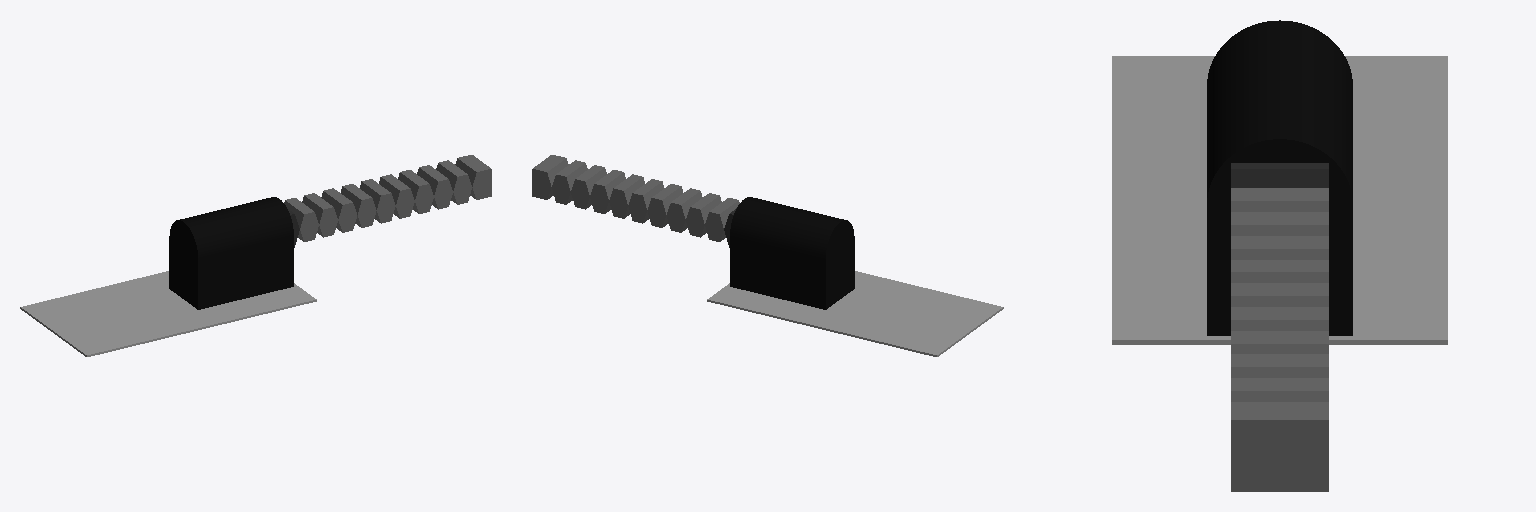
robot.urdf — Robot:
<?xml version="1.0"?>
<robot name="Robot">
  <link name="plate">
    <inertial>
      <origin xyz="-0.29 0 -0.0025" rpy="0 0 0" />
      <mass value="10" />
      <inertia ixx="0.0750208333" ixy="0" ixz="0" iyy="0.300020833" iyz="0" izz="0.375" />
    </inertial>
    <visual>
      <origin xyz="0 0 0" rpy="0 0 0" />
      <geometry>
        <mesh filename="../assets/plate/plate_mesh.obj" />
      </geometry>
      <material name="plate_mat">
        <color rgba="0.62745098 0.62745098 0.62745098 1" />
      </material>
    </visual>
    <collision>
      <origin xyz="0 0 0" rpy="0 0 0" />
      <geometry>
        <mesh filename="../assets/plate/plate_mesh.obj" />
      </geometry>
    </collision>
  </link>
  <link name="housing">
    <inertial>
      <origin xyz="-0.125 0 0.090106019" rpy="0 0 0" />
      <mass value="3" />
      <inertia ixx="0.0122324069" ixy="0" ixz="0" iyy="0.0239337826" iyz="0" izz="0.0195486244" />
    </inertial>
    <visual>
      <origin xyz="0 0 0" rpy="0 0 0" />
      <geometry>
        <mesh filename="../assets/housing/housing_mesh.obj" />
      </geometry>
      <material name="housing_mat">
        <color rgba="0.0823529412 0.0823529412 0.0823529412 1" />
      </material>
    </visual>
    <collision>
      <origin xyz="0 0 0" rpy="0 0 0" />
      <geometry>
        <mesh filename="../assets/housing/housing_mesh.obj" />
      </geometry>
    </collision>
  </link>
  <link name="wedge">
    <inertial>
      <origin xyz="0.0109546951 0 0" rpy="0 0 0" />
      <mass value="0.1" />
      <inertia ixx="0.000113860054" ixy="0" ixz="0" iyy="5.38263296e-05" iyz="0" izz="6.90329423e-05" />
    </inertial>
    <visual>
      <origin xyz="0 0 0" rpy="0 0 0" />
      <geometry>
        <mesh filename="../assets/wedge/wedge_mesh.obj" />
      </geometry>
      <material name="wedge_mat">
        <color rgba="0.219607843 0.219607843 0.219607843 1" />
      </material>
    </visual>
    <collision>
      <origin xyz="0 0 0" rpy="0 0 0" />
      <geometry>
        <mesh filename="../assets/wedge/wedge_mesh.obj" />
      </geometry>
    </collision>
  </link>
  <link name="node0">
    <inertial>
      <origin xyz="0.025 0 0" rpy="0 0 0" />
      <mass value="0.1" />
      <inertia ixx="9.93559147e-05" ixy="0" ixz="0" iyy="4.83345352e-05" iyz="0" izz="7.80452872e-05" />
    </inertial>
    <visual>
      <origin xyz="0 0 0" rpy="0 0 0" />
      <geometry>
        <mesh filename="../assets/node/node_mesh.obj" />
      </geometry>
      <material name="node0_mat">
        <color rgba="0.439215686 0.439215686 0.439215686 1" />
      </material>
    </visual>
    <collision>
      <origin xyz="0 0 0" rpy="0 0 0" />
      <geometry>
        <mesh filename="../assets/node/node_mesh.obj" />
      </geometry>
    </collision>
  </link>
  <link name="node1">
    <inertial>
      <origin xyz="0.025 0 0" rpy="0 0 0" />
      <mass value="0.1" />
      <inertia ixx="9.93559147e-05" ixy="0" ixz="0" iyy="4.83345352e-05" iyz="0" izz="7.80452872e-05" />
    </inertial>
    <visual>
      <origin xyz="0 0 0" rpy="0 0 0" />
      <geometry>
        <mesh filename="../assets/node/node_mesh.obj" />
      </geometry>
      <material name="node1_mat">
        <color rgba="0.439215686 0.439215686 0.439215686 1" />
      </material>
    </visual>
    <collision>
      <origin xyz="0 0 0" rpy="0 0 0" />
      <geometry>
        <mesh filename="../assets/node/node_mesh.obj" />
      </geometry>
    </collision>
  </link>
  <link name="node2">
    <inertial>
      <origin xyz="0.025 0 0" rpy="0 0 0" />
      <mass value="0.1" />
      <inertia ixx="9.93559147e-05" ixy="0" ixz="0" iyy="4.83345352e-05" iyz="0" izz="7.80452872e-05" />
    </inertial>
    <visual>
      <origin xyz="0 0 0" rpy="0 0 0" />
      <geometry>
        <mesh filename="../assets/node/node_mesh.obj" />
      </geometry>
      <material name="node2_mat">
        <color rgba="0.439215686 0.439215686 0.439215686 1" />
      </material>
    </visual>
    <collision>
      <origin xyz="0 0 0" rpy="0 0 0" />
      <geometry>
        <mesh filename="../assets/node/node_mesh.obj" />
      </geometry>
    </collision>
  </link>
  <link name="node3">
    <inertial>
      <origin xyz="0.025 0 0" rpy="0 0 0" />
      <mass value="0.1" />
      <inertia ixx="9.93559147e-05" ixy="0" ixz="0" iyy="4.83345352e-05" iyz="0" izz="7.80452872e-05" />
    </inertial>
    <visual>
      <origin xyz="0 0 0" rpy="0 0 0" />
      <geometry>
        <mesh filename="../assets/node/node_mesh.obj" />
      </geometry>
      <material name="node3_mat">
        <color rgba="0.439215686 0.439215686 0.439215686 1" />
      </material>
    </visual>
    <collision>
      <origin xyz="0 0 0" rpy="0 0 0" />
      <geometry>
        <mesh filename="../assets/node/node_mesh.obj" />
      </geometry>
    </collision>
  </link>
  <link name="node4">
    <inertial>
      <origin xyz="0.025 0 0" rpy="0 0 0" />
      <mass value="0.1" />
      <inertia ixx="9.93559147e-05" ixy="0" ixz="0" iyy="4.83345352e-05" iyz="0" izz="7.80452872e-05" />
    </inertial>
    <visual>
      <origin xyz="0 0 0" rpy="0 0 0" />
      <geometry>
        <mesh filename="../assets/node/node_mesh.obj" />
      </geometry>
      <material name="node4_mat">
        <color rgba="0.439215686 0.439215686 0.439215686 1" />
      </material>
    </visual>
    <collision>
      <origin xyz="0 0 0" rpy="0 0 0" />
      <geometry>
        <mesh filename="../assets/node/node_mesh.obj" />
      </geometry>
    </collision>
  </link>
  <link name="node5">
    <inertial>
      <origin xyz="0.025 0 0" rpy="0 0 0" />
      <mass value="0.1" />
      <inertia ixx="9.93559147e-05" ixy="0" ixz="0" iyy="4.83345352e-05" iyz="0" izz="7.80452872e-05" />
    </inertial>
    <visual>
      <origin xyz="0 0 0" rpy="0 0 0" />
      <geometry>
        <mesh filename="../assets/node/node_mesh.obj" />
      </geometry>
      <material name="node5_mat">
        <color rgba="0.439215686 0.439215686 0.439215686 1" />
      </material>
    </visual>
    <collision>
      <origin xyz="0 0 0" rpy="0 0 0" />
      <geometry>
        <mesh filename="../assets/node/node_mesh.obj" />
      </geometry>
    </collision>
  </link>
  <link name="node6">
    <inertial>
      <origin xyz="0.025 0 0" rpy="0 0 0" />
      <mass value="0.1" />
      <inertia ixx="9.93559147e-05" ixy="0" ixz="0" iyy="4.83345352e-05" iyz="0" izz="7.80452872e-05" />
    </inertial>
    <visual>
      <origin xyz="0 0 0" rpy="0 0 0" />
      <geometry>
        <mesh filename="../assets/node/node_mesh.obj" />
      </geometry>
      <material name="node6_mat">
        <color rgba="0.439215686 0.439215686 0.439215686 1" />
      </material>
    </visual>
    <collision>
      <origin xyz="0 0 0" rpy="0 0 0" />
      <geometry>
        <mesh filename="../assets/node/node_mesh.obj" />
      </geometry>
    </collision>
  </link>
  <link name="node7">
    <inertial>
      <origin xyz="0.025 0 0" rpy="0 0 0" />
      <mass value="0.1" />
      <inertia ixx="9.93559147e-05" ixy="0" ixz="0" iyy="4.83345352e-05" iyz="0" izz="7.80452872e-05" />
    </inertial>
    <visual>
      <origin xyz="0 0 0" rpy="0 0 0" />
      <geometry>
        <mesh filename="../assets/node/node_mesh.obj" />
      </geometry>
      <material name="node7_mat">
        <color rgba="0.439215686 0.439215686 0.439215686 1" />
      </material>
    </visual>
    <collision>
      <origin xyz="0 0 0" rpy="0 0 0" />
      <geometry>
        <mesh filename="../assets/node/node_mesh.obj" />
      </geometry>
    </collision>
  </link>
  <link name="node8">
    <inertial>
      <origin xyz="0.025 0 0" rpy="0 0 0" />
      <mass value="0.1" />
      <inertia ixx="9.93559147e-05" ixy="0" ixz="0" iyy="4.83345352e-05" iyz="0" izz="7.80452872e-05" />
    </inertial>
    <visual>
      <origin xyz="0 0 0" rpy="0 0 0" />
      <geometry>
        <mesh filename="../assets/node/node_mesh.obj" />
      </geometry>
      <material name="node8_mat">
        <color rgba="0.439215686 0.439215686 0.439215686 1" />
      </material>
    </visual>
    <collision>
      <origin xyz="0 0 0" rpy="0 0 0" />
      <geometry>
        <mesh filename="../assets/node/node_mesh.obj" />
      </geometry>
    </collision>
  </link>
  <link name="node9">
    <inertial>
      <origin xyz="0.0277214464 0 0" rpy="0 0 0" />
      <mass value="0.1" />
      <inertia ixx="0.000102746922" ixy="0" ixz="-0" iyy="5.51153233e-05" iyz="0" izz="8.14350676e-05" />
    </inertial>
    <visual>
      <origin xyz="0 0 0" rpy="0 0 0" />
      <geometry>
        <mesh filename="../assets/node_end/node_end_mesh.obj" />
      </geometry>
      <material name="node9_mat">
        <color rgba="0.439215686 0.439215686 0.439215686 1" />
      </material>
    </visual>
    <collision>
      <origin xyz="0 0 0" rpy="0 0 0" />
      <geometry>
        <mesh filename="../assets/node_end/node_end_mesh.obj" />
      </geometry>
    </collision>
  </link>
  <joint name="j_plate_housing" type="prismatic">
    <parent link="plate" />
    <child link="housing" />
    <origin xyz="0 0 0" rpy="0 0 0" />
    <axis xyz="1 0 0" />
    <limit lower="0" upper="0" effort="200" velocity="3" />
    <dynamics damping="60" friction="20" />
  </joint>
  <joint name="j_housing_wedge" type="revolute">
    <parent link="housing" />
    <child link="wedge" />
    <origin xyz="0 0 0.128" rpy="0 0 0" />
    <axis xyz="1 0 0" />
    <limit lower="0" upper="0" effort="200" velocity="3" />
    <dynamics damping="0.12" friction="0.06" />
  </joint>
  <joint name="j_wedge_node0" type="revolute">
    <parent link="wedge" />
    <child link="node0" />
    <origin xyz="0.028 0 0" rpy="0 0 0" />
    <axis xyz="0 1 0" />
    <limit lower="0" upper="0" effort="200" velocity="3" />
    <dynamics damping="0.12" friction="0.06" />
  </joint>
  <joint name="j_node0_node1" type="revolute">
    <parent link="node0" />
    <child link="node1" />
    <origin xyz="0.05 0 0" rpy="0 0 0" />
    <axis xyz="0 1 0" />
    <limit lower="0" upper="0" effort="200" velocity="3" />
    <dynamics damping="0.12" friction="0.06" />
  </joint>
  <joint name="j_node1_node2" type="revolute">
    <parent link="node1" />
    <child link="node2" />
    <origin xyz="0.05 0 0" rpy="0 0 0" />
    <axis xyz="0 1 0" />
    <limit lower="0" upper="0" effort="200" velocity="3" />
    <dynamics damping="0.12" friction="0.06" />
  </joint>
  <joint name="j_node2_node3" type="revolute">
    <parent link="node2" />
    <child link="node3" />
    <origin xyz="0.05 0 0" rpy="0 0 0" />
    <axis xyz="0 1 0" />
    <limit lower="0" upper="0" effort="200" velocity="3" />
    <dynamics damping="0.12" friction="0.06" />
  </joint>
  <joint name="j_node3_node4" type="revolute">
    <parent link="node3" />
    <child link="node4" />
    <origin xyz="0.05 0 0" rpy="0 0 0" />
    <axis xyz="0 1 0" />
    <limit lower="0" upper="0" effort="200" velocity="3" />
    <dynamics damping="0.12" friction="0.06" />
  </joint>
  <joint name="j_node4_node5" type="revolute">
    <parent link="node4" />
    <child link="node5" />
    <origin xyz="0.05 0 0" rpy="0 0 0" />
    <axis xyz="0 1 0" />
    <limit lower="0" upper="0" effort="200" velocity="3" />
    <dynamics damping="0.12" friction="0.06" />
  </joint>
  <joint name="j_node5_node6" type="revolute">
    <parent link="node5" />
    <child link="node6" />
    <origin xyz="0.05 0 0" rpy="0 0 0" />
    <axis xyz="0 1 0" />
    <limit lower="0" upper="0" effort="200" velocity="3" />
    <dynamics damping="0.12" friction="0.06" />
  </joint>
  <joint name="j_node6_node7" type="revolute">
    <parent link="node6" />
    <child link="node7" />
    <origin xyz="0.05 0 0" rpy="0 0 0" />
    <axis xyz="0 1 0" />
    <limit lower="0" upper="0" effort="200" velocity="3" />
    <dynamics damping="0.12" friction="0.06" />
  </joint>
  <joint name="j_node7_node8" type="revolute">
    <parent link="node7" />
    <child link="node8" />
    <origin xyz="0.05 0 0" rpy="0 0 0" />
    <axis xyz="0 1 0" />
    <limit lower="0" upper="0" effort="200" velocity="3" />
    <dynamics damping="0.12" friction="0.06" />
  </joint>
  <joint name="j_node8_node9" type="revolute">
    <parent link="node8" />
    <child link="node9" />
    <origin xyz="0.05 0 0" rpy="0 0 0" />
    <axis xyz="0 1 0" />
    <limit lower="0" upper="0" effort="200" velocity="3" />
    <dynamics damping="0.12" friction="0.06" />
  </joint>
  <mujoco>
    <contact>
      <exclude body1="housing" body2="plate" />
      <exclude body1="housing" body2="wedge" />
      <exclude body1="node0" body2="node1" />
      <exclude body1="node0" body2="wedge" />
      <exclude body1="node1" body2="node2" />
      <exclude body1="node2" body2="node3" />
      <exclude body1="node3" body2="node4" />
      <exclude body1="node4" body2="node5" />
      <exclude body1="node5" body2="node6" />
      <exclude body1="node6" body2="node7" />
      <exclude body1="node7" body2="node8" />
      <exclude body1="node8" body2="node9" />
    </contact>
  </mujoco>
</robot>

--- Facts derived from the render (not from the file) ---
3 views of the same robot in one strip: view 1: azimuth 30°, elevation 25°; view 2: azimuth 150°, elevation 25°; view 3: azimuth 270°, elevation 25° (orthographic).
Model Robot with 13 links and 12 joints (11 revolute, 1 prismatic), rooted at plate, posed all joints at 0.
Links seen in each view (by area): view 1: housing, plate, node9, node2, node4, node7, node8, node3, node5, node6, node1, node0; view 2: housing, plate, node9, node2, node4, node7, node8, node3, node5, node6, node1, node0; view 3: plate, housing, node9, wedge, node0, node1, node2, node4, node5, node7, node8, node3 (+1 smaller).
Link boxes in pixels (x1,y1,x2,y2): housing: [169, 197, 293, 309]; plate: [20, 271, 316, 356]; node9: [455, 155, 491, 199]; node2: [321, 188, 356, 232]; node4: [360, 179, 395, 223]; node7: [417, 165, 452, 209]; node8: [436, 160, 471, 204]; node3: [341, 184, 376, 227]; node5: [379, 174, 414, 218]; node6: [398, 170, 433, 213]; node1: [302, 193, 337, 237]; node0: [284, 198, 318, 241]; housing: [730, 197, 854, 309]; plate: [707, 271, 1003, 356]; node9: [532, 155, 568, 199]; node2: [667, 188, 702, 232]; node4: [628, 179, 663, 223]; node7: [571, 165, 606, 209]; node8: [552, 160, 587, 204]; node3: [647, 184, 682, 227]; node5: [609, 174, 644, 218]; node6: [590, 170, 625, 213]; node1: [686, 193, 721, 237]; node0: [705, 198, 739, 241]; plate: [1112, 56, 1447, 344]; housing: [1207, 20, 1352, 335]; node9: [1231, 402, 1328, 491]; wedge: [1231, 163, 1328, 187]; node0: [1231, 188, 1328, 211]; node1: [1231, 212, 1328, 235]; node2: [1231, 236, 1328, 259]; node4: [1231, 283, 1328, 306]; node5: [1231, 307, 1328, 330]; node7: [1231, 354, 1328, 377]; node8: [1231, 378, 1328, 401]; node3: [1231, 260, 1328, 282].
Bounding box of the posed robot: 1.12 × 0.3 × 0.198 m (x, y, z).
Meshes: 5 distinct files referenced, 13 mesh visuals loaded (5 OBJ).
